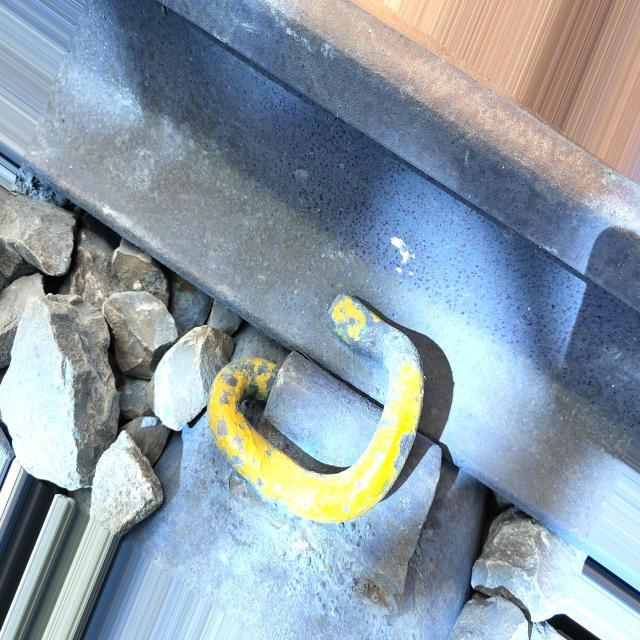Good Fasteners: (207, 295, 441, 603)
